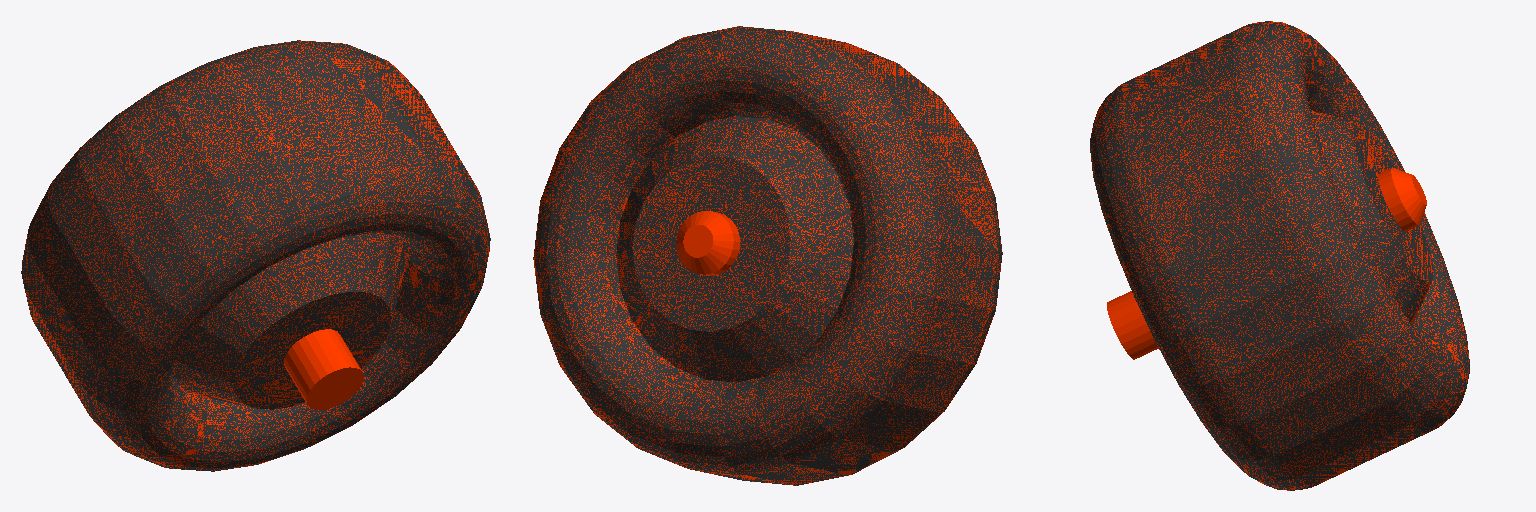
Rendered from original-39.obj.
3 views of the same model, side by side, from view 1: azimuth 30°, elevation 25°; view 2: azimuth 150°, elevation 25°; view 3: azimuth 270°, elevation 25° (orthographic).
Parts seen in each view (by area): view 1: W-35-A-1_2p1/mesh30/mesh30-geometry#mesh30-geometry; view 2: W-35-A-1_2p1/mesh30/mesh30-geometry#mesh30-geometry; view 3: W-35-A-1_2p1/mesh30/mesh30-geometry#mesh30-geometry.
Boxes of the visible parts, x1,y1,x2,y2 form: W-35-A-1_2p1/mesh30/mesh30-geometry#mesh30-geometry: [21, 40, 490, 471]; W-35-A-1_2p1/mesh30/mesh30-geometry#mesh30-geometry: [533, 26, 1002, 485]; W-35-A-1_2p1/mesh30/mesh30-geometry#mesh30-geometry: [1090, 21, 1469, 490].
Bounding box in the file's own units: 0.0688 × 0.0715 × 0.058.